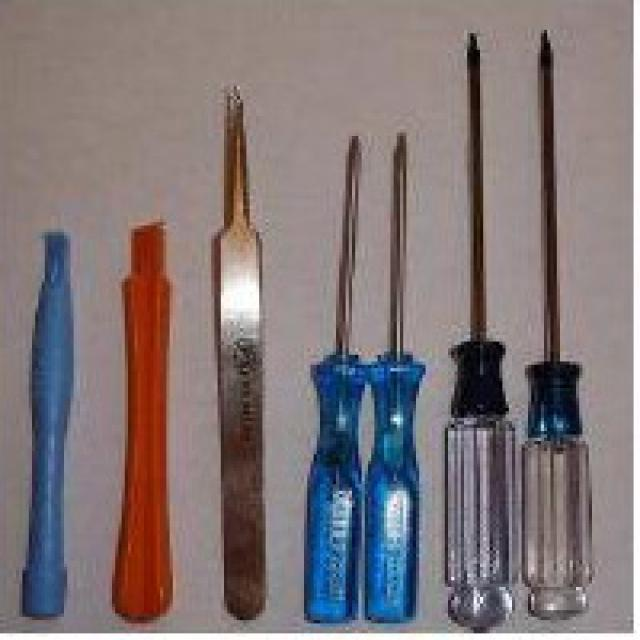screwdriver: (507, 16, 604, 628), (435, 20, 515, 637), (309, 126, 371, 636), (363, 126, 423, 634)
